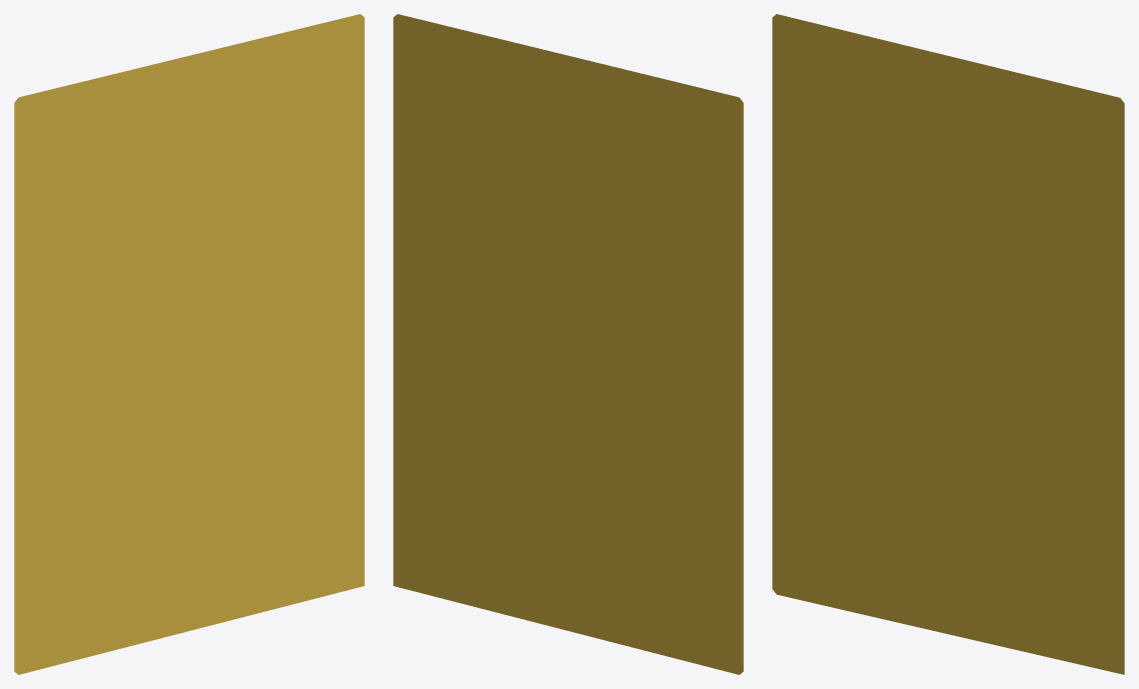
Rendered from Phone-2 Screen.fbx.
The picture shows the model from 3 angles, left to right: view 1: azimuth 30°, elevation 25°; view 2: azimuth 150°, elevation 25°; view 3: azimuth 330°, elevation 25°; orthographic projection.
Visible parts, largest first — view 1: Phone-2 Screen; view 2: Phone-2 Screen; view 3: Phone-2 Screen.
Part boxes in pixels (x1,y1,x2,y2): Phone-2 Screen: (14, 14, 364, 674); Phone-2 Screen: (393, 14, 743, 674); Phone-2 Screen: (772, 14, 1124, 674).
Size of the model in its own units: 0.7776 by 1.22 by 5.84e-07.
